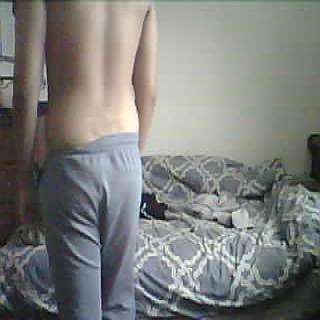Blue Sweatpants: (32, 129, 149, 320)
